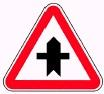Cruzamento com via sem prioridade: (4, 3, 101, 91)
